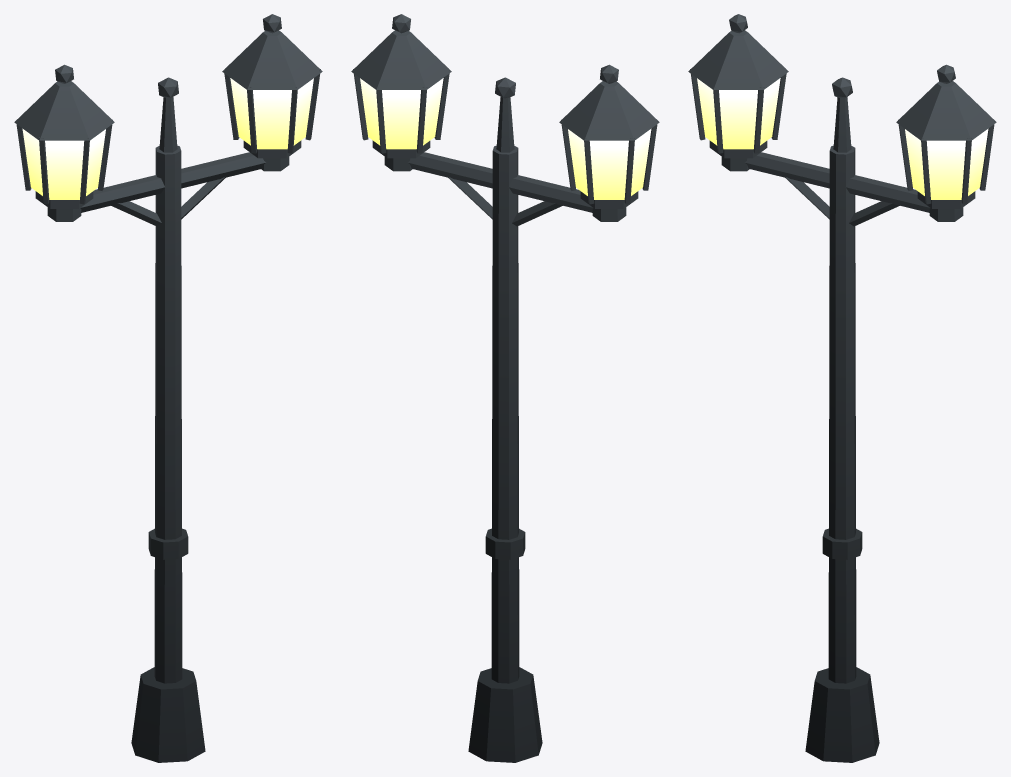
File: farol_doble.glb
The picture shows the model from 3 angles, left to right: view 1: azimuth 30°, elevation 25°; view 2: azimuth 150°, elevation 25°; view 3: azimuth 330°, elevation 25°; orthographic projection.
Visible parts, largest first — view 1: farol_doble; view 2: farol_doble; view 3: farol_doble.
Boxes of the visible parts, bbox=[...] form: farol_doble: bbox=[14, 14, 322, 762]; farol_doble: bbox=[351, 14, 659, 762]; farol_doble: bbox=[688, 14, 996, 762].
Bounding box in the file's own units: 1.36 × 3.26 × 0.42.
Materials: 1 (1 with a texture image).
